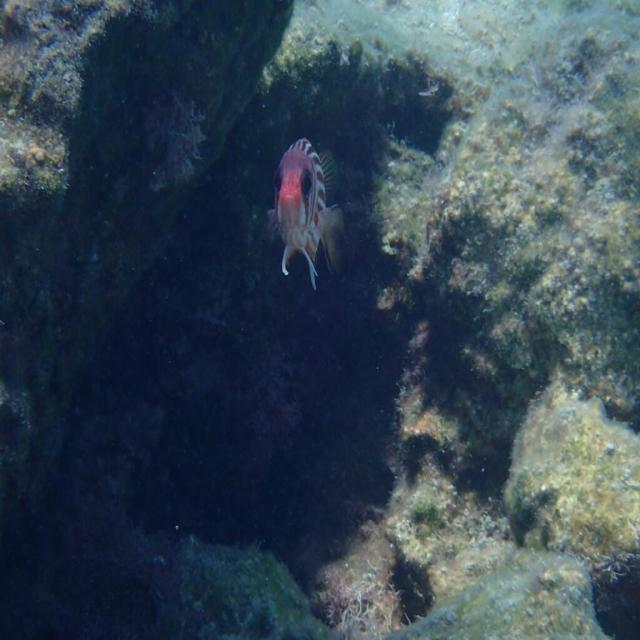Asker Baligi: (254, 121, 357, 304)
